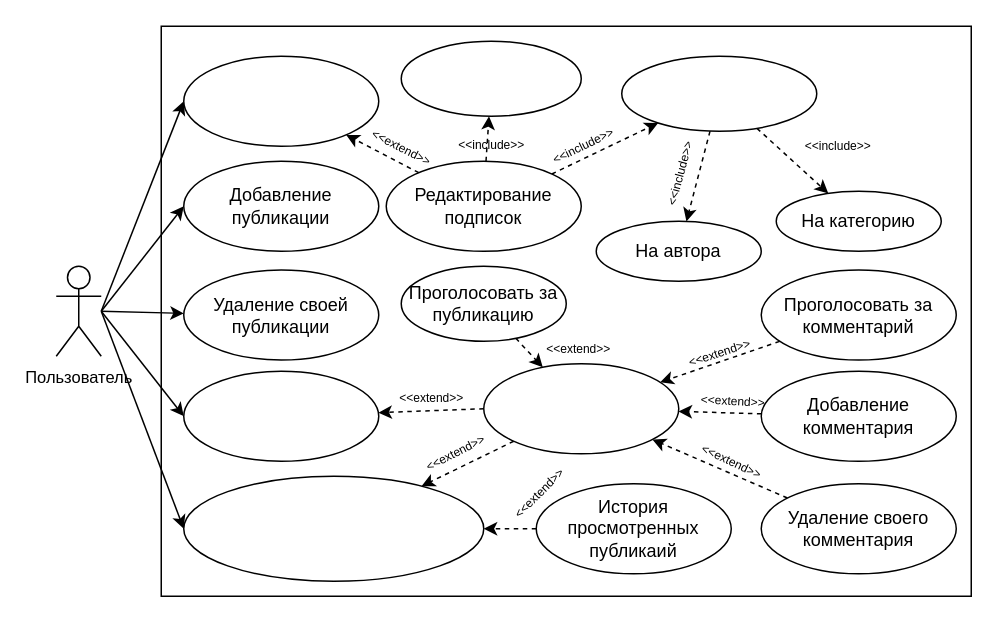
This 998x635 diagram has some shape labels left out. Each missing label, with the centre of its shape:
Детальный просмотр публикации: the point at 580,408
Добавление подписки: the point at 718,93
Просмотр своей ленты информационного контента: the point at 333,528
Просмотр своих подписок: the point at 280,100
Просмотр списка публикаций: the point at 280,415
Удаление подписки: the point at 490,78
